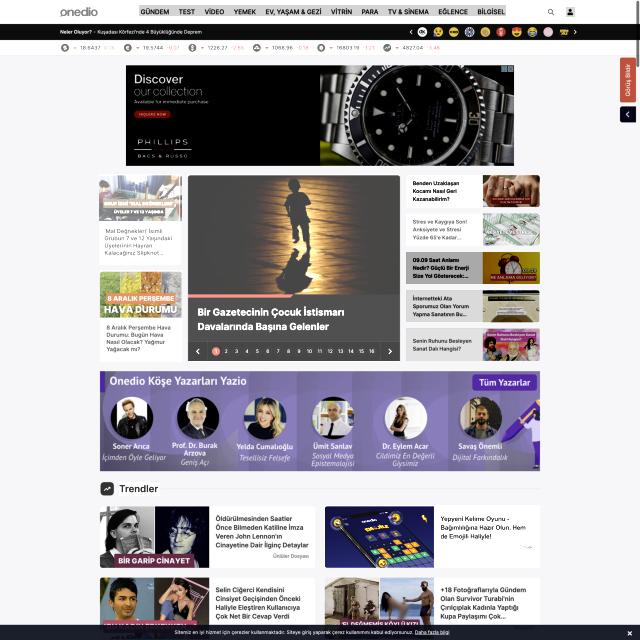ImageView: (126, 65, 514, 166)
QR code: (59, 42, 443, 54)
Spinner: (324, 505, 540, 568), (100, 270, 182, 362), (100, 174, 182, 265), (406, 328, 540, 361), (407, 175, 540, 208), (406, 214, 540, 246), (406, 252, 540, 284), (406, 290, 539, 322)
breadcrumbs: (119, 482, 160, 496)
carousel: (566, 7, 575, 17), (547, 8, 556, 16)
copy: (188, 174, 400, 362), (100, 175, 182, 222), (100, 271, 182, 318)
date picker: (57, 3, 99, 20)
decoration: (139, 5, 506, 16)
dropdown: (195, 347, 392, 356)
